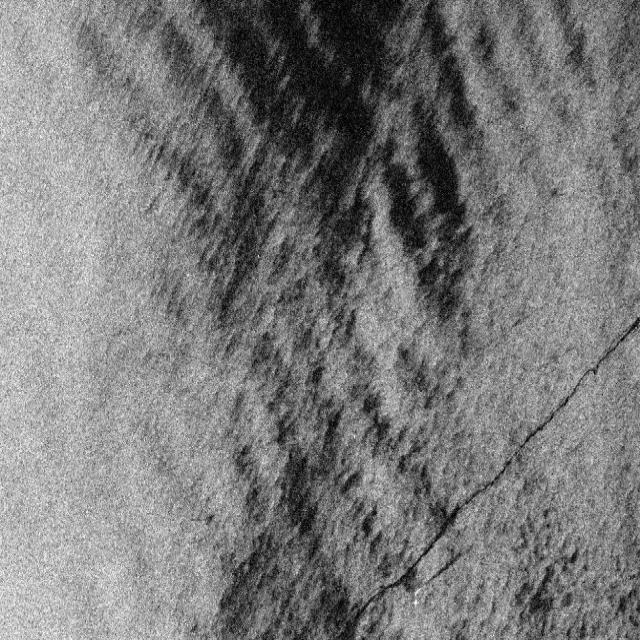look-alike: (168, 3, 487, 356), (210, 422, 325, 639)
oil-spill: (334, 449, 522, 640), (520, 308, 638, 451)
